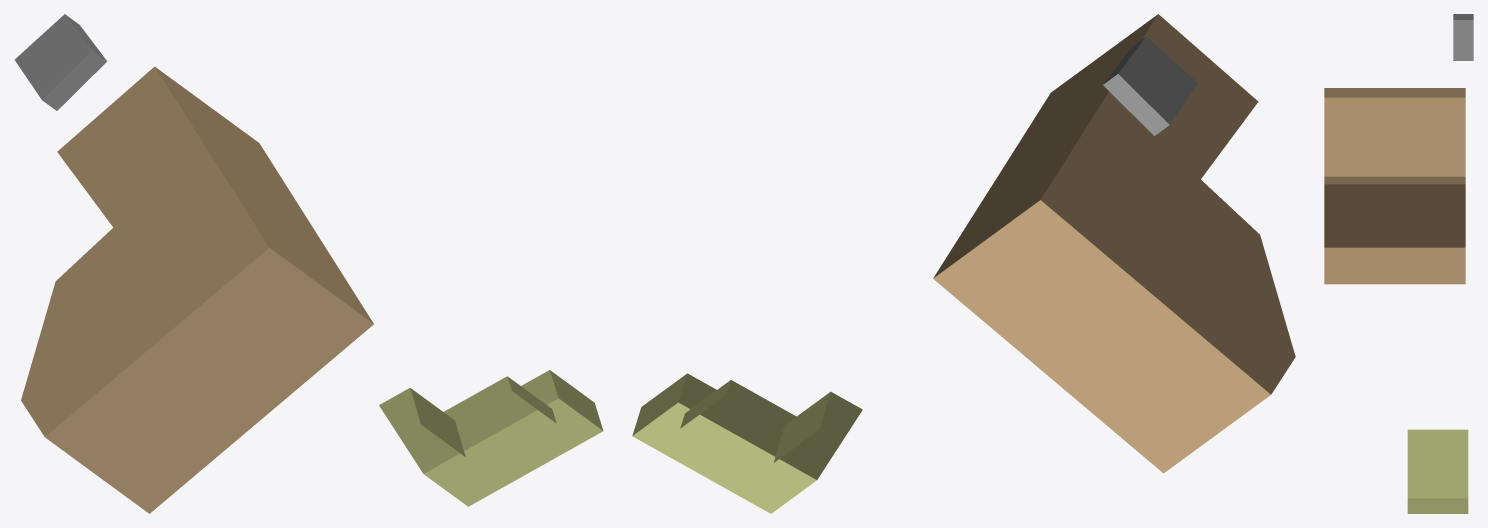
3 views of the same model, side by side, from view 1: azimuth 30°, elevation 25°; view 2: azimuth 150°, elevation 25°; view 3: azimuth 270°, elevation 25° (orthographic). The views are drawn at different scales.
Visible parts, largest first — view 1: 0_1_0_0_1_0_1_0; view 2: 0_1_0_0_1_0_1_0; view 3: 0_1_0_0_1_0_1_0.
Part boxes in pixels (x1,y1,x2,y2): 0_1_0_0_1_0_1_0: (14,14,603,513); 0_1_0_0_1_0_1_0: (632,14,1295,513); 0_1_0_0_1_0_1_0: (1324,14,1473,513).
Bounding box in the file's own units: 62.53 × 60.14 × 22.17.
